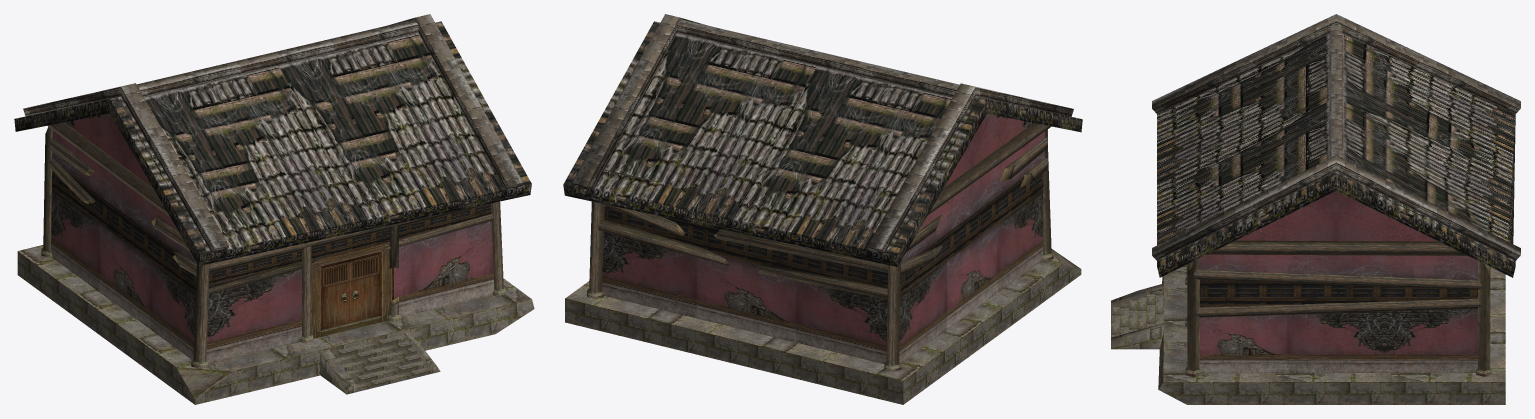
File: Hangzhou_wj_051_4.FBX
The picture shows the model from 3 angles, left to right: view 1: azimuth 30°, elevation 25°; view 2: azimuth 150°, elevation 25°; view 3: azimuth 270°, elevation 25°; orthographic projection. The views are drawn at different scales.
Parts seen in each view (by area): view 1: Object001fangza; view 2: Object001fangza; view 3: Object001fangza.
Part boxes in pixels (bbox=[...]): Object001fangza: bbox=[14, 14, 534, 404]; Object001fangza: bbox=[563, 14, 1082, 404]; Object001fangza: bbox=[1111, 14, 1520, 404].
Size of the model in its own units: 518 by 366 by 567.
Materials: 7 (7 with a texture image).
